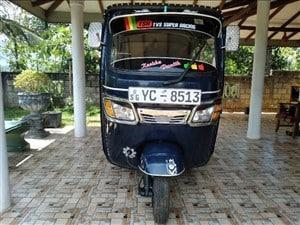license-plate: (127, 84, 200, 104)
